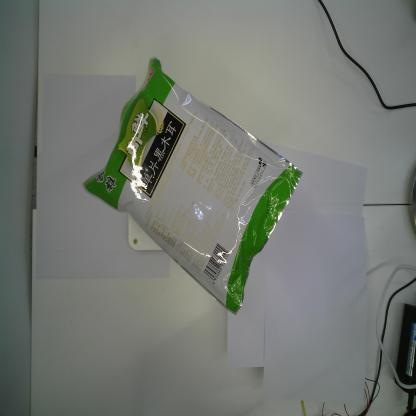Dried Food: (80, 55, 306, 320)
